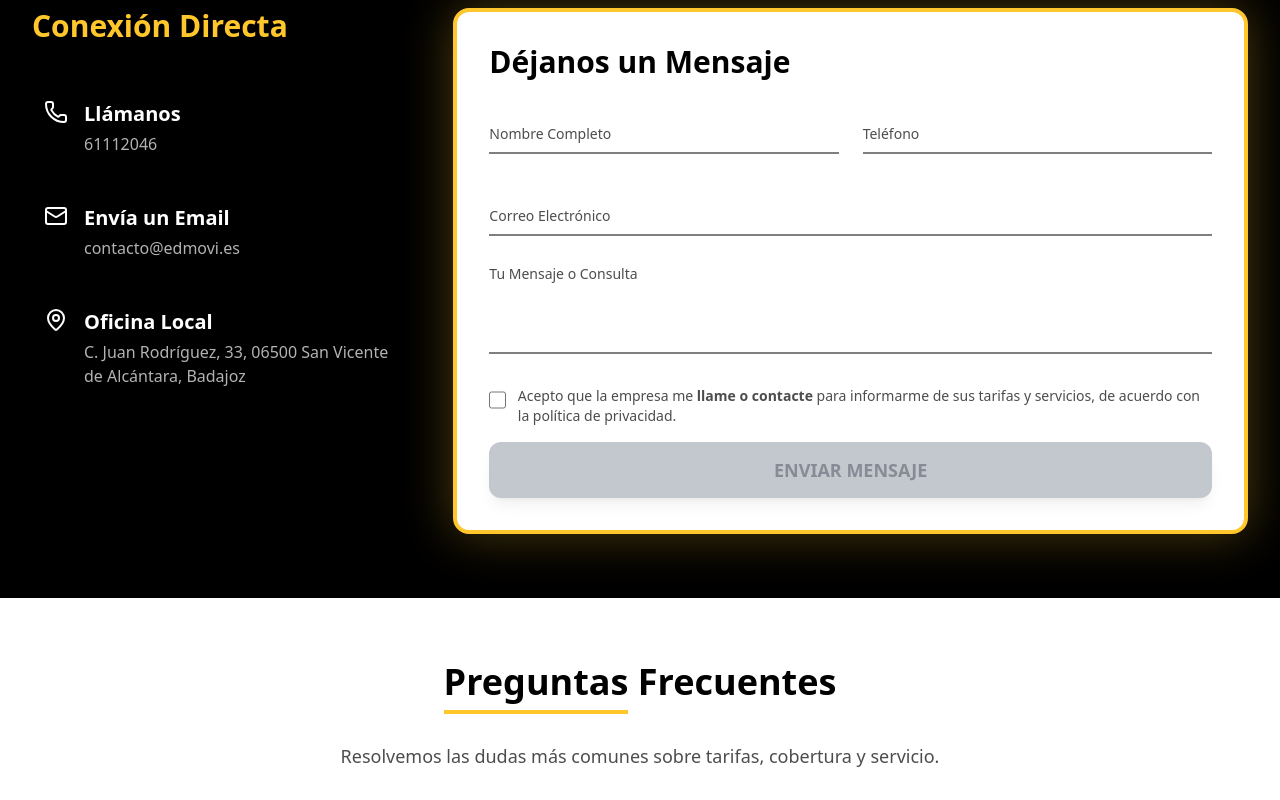
Test case: Debe renderizar la página de contacto y validar el estado inicial del formulario
(page scrolled)
Expected: the field labelled "Nombre Completo" is shown, [489, 112, 839, 154]
Expected: the field labelled "Teléfono" is shown, [863, 112, 1212, 154]
# Verificar que al marcar el consentimiento, el botón se habilita
Step 1. Click the checkbox labelled "Acepto que la empresa me llame" → (498, 400), box [489, 390, 506, 410]
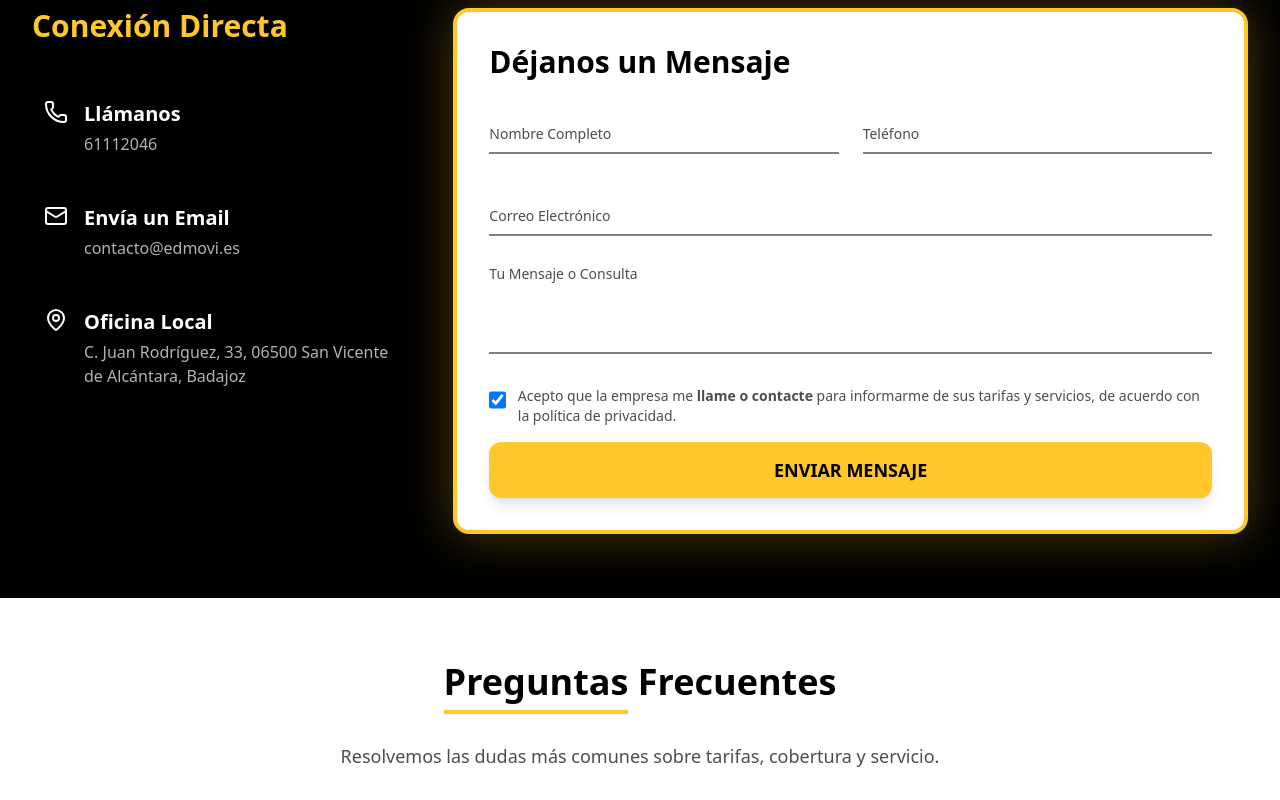
Expected: the button "ENVIAR MENSAJE" is enabled, [489, 442, 1212, 498]
